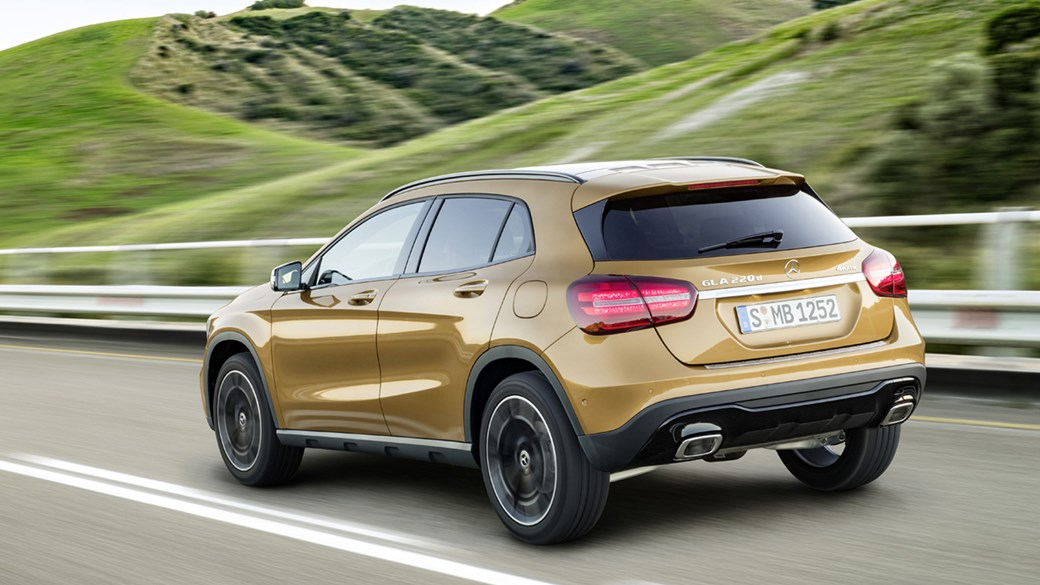gla: (143, 154, 948, 553)
